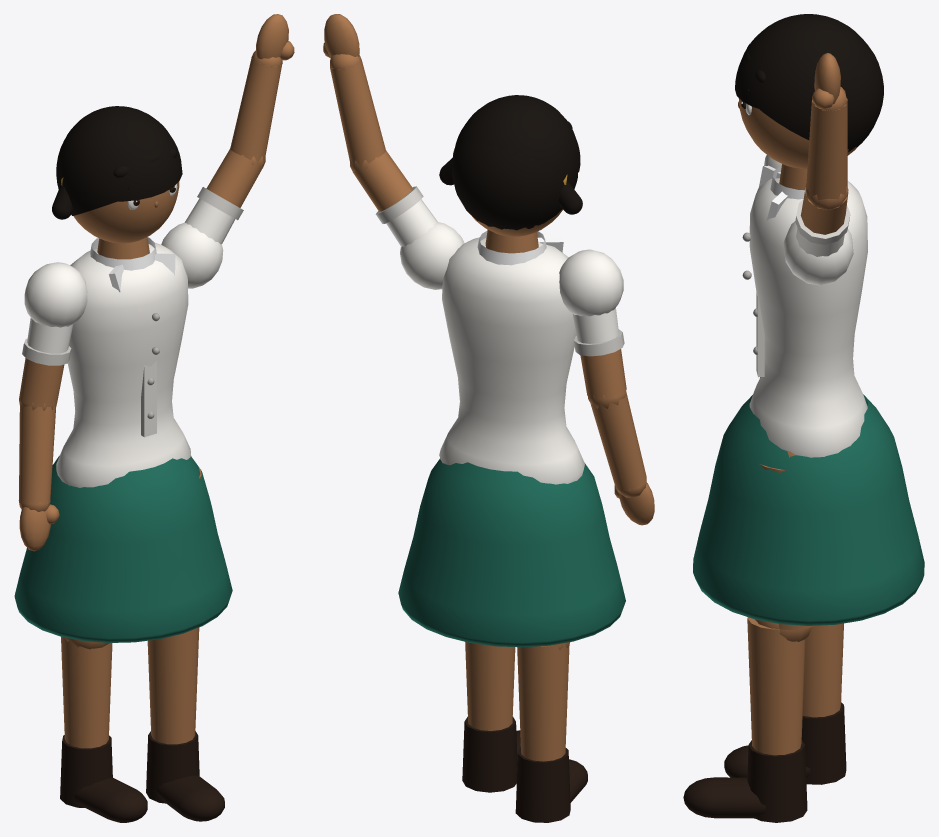
The model's file is 15-ayu.glb.
3 views of the same model, side by side, from view 1: azimuth 30°, elevation 25°; view 2: azimuth 150°, elevation 25°; view 3: azimuth 270°, elevation 25° (orthographic). The views are drawn at different scales.
Visible parts, largest first — view 1: Ayu, skull, elbow (×2), armR, armL; view 2: Ayu, skull, elbow (×2), armR, armL; view 3: Ayu, skull, elbow, armL.
Part boxes in pixels (x1,y1,x2,y2): Ayu: (14,237,232,822); skull: (52,106,182,243); elbow (×2): (18,14,294,551); armR: (19,262,87,406); armL: (161,149,262,288); Ayu: (398,229,625,822); skull: (439,95,582,236); elbow (×2): (323,14,654,525); armR: (559,249,626,399); armL: (353,150,464,289); Ayu: (683,164,924,822); skull: (735,14,883,168); elbow: (805,53,847,209); armL: (783,187,853,285).
Bounding box in the file's own units: 0.5802 × 1.38 × 0.3623.
